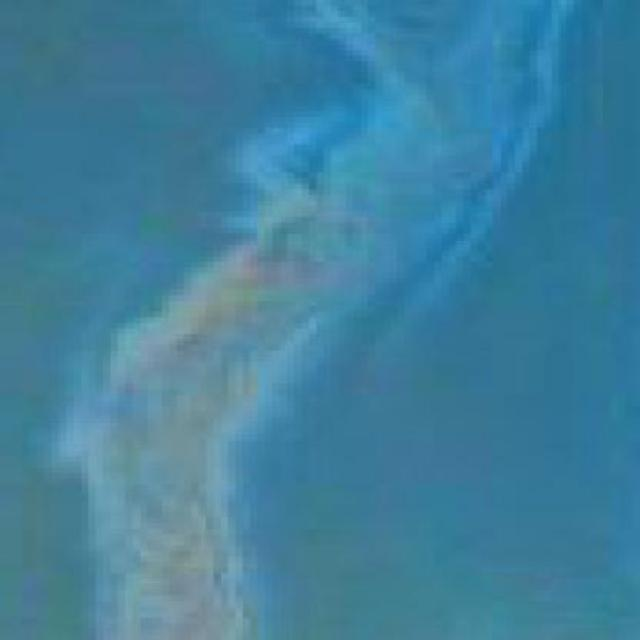sheen: (56, 97, 465, 640)
